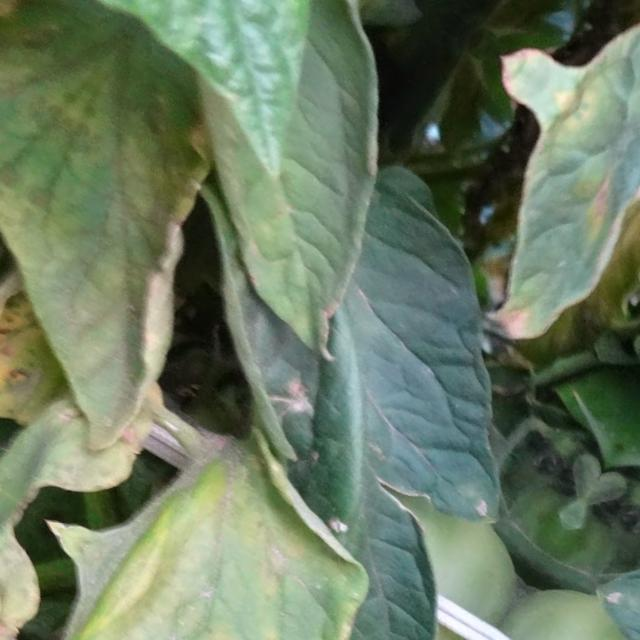Tomato leaf late blight: (242, 0, 640, 412), (493, 356, 640, 611)
